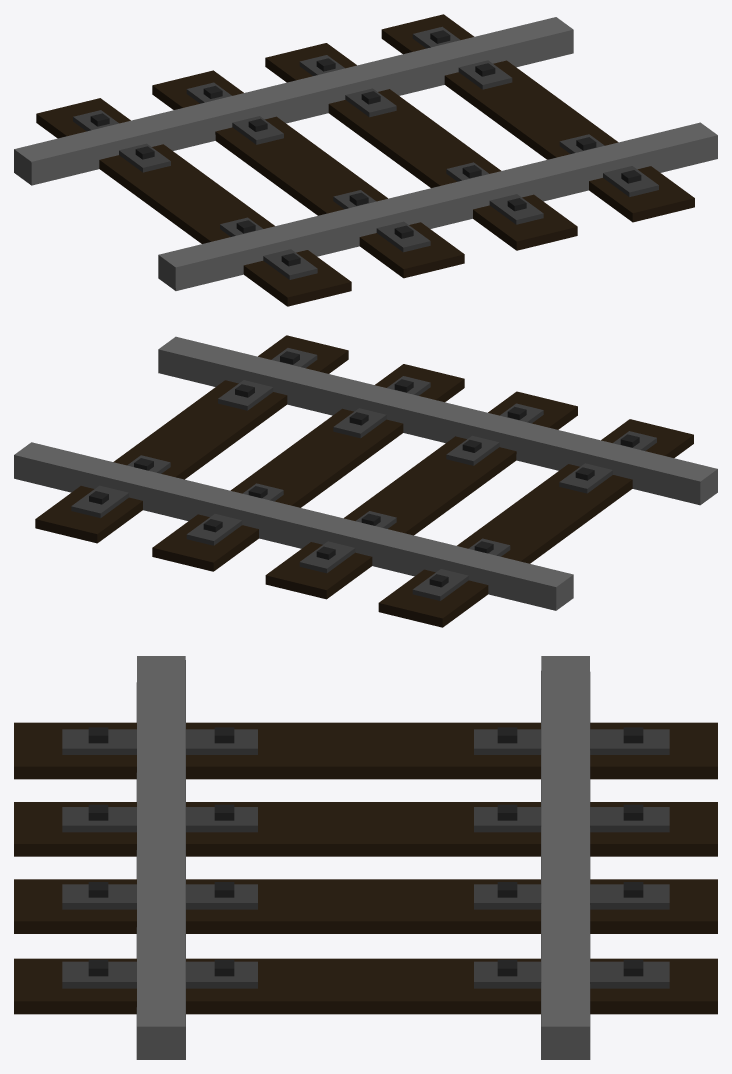
Rendered from rail_recht_2m.fbx.
The picture shows the model from 3 angles, top to bottom: view 1: azimuth 30°, elevation 25°; view 2: azimuth 150°, elevation 25°; view 3: azimuth 270°, elevation 25°; orthographic projection. The views are drawn at different scales.
Visible parts, largest first — view 1: Plane.018; view 2: Plane.018; view 3: Plane.018.
Boxes of the visible parts, left/top/right/bottom form: Plane.018: left=14, top=14, right=717, bottom=306; Plane.018: left=14, top=335, right=717, bottom=627; Plane.018: left=14, top=656, right=717, bottom=1059.
Size of the model in its own units: 2.96 by 0.1335 by 2.38.
